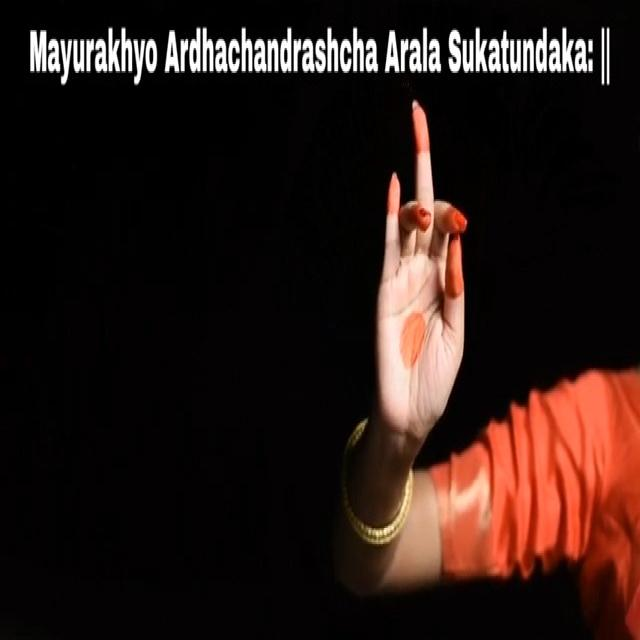Kangula: (366, 96, 484, 448)
bangle: (325, 448, 417, 562)
text: (20, 13, 616, 93)
